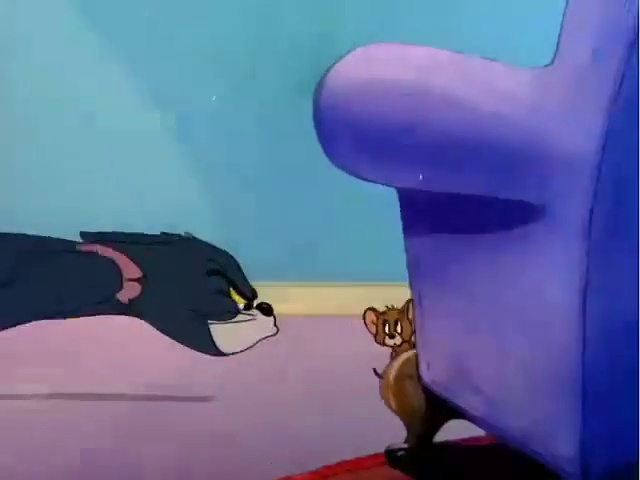jerry: (350, 280, 440, 367)
tom: (0, 202, 295, 375)
